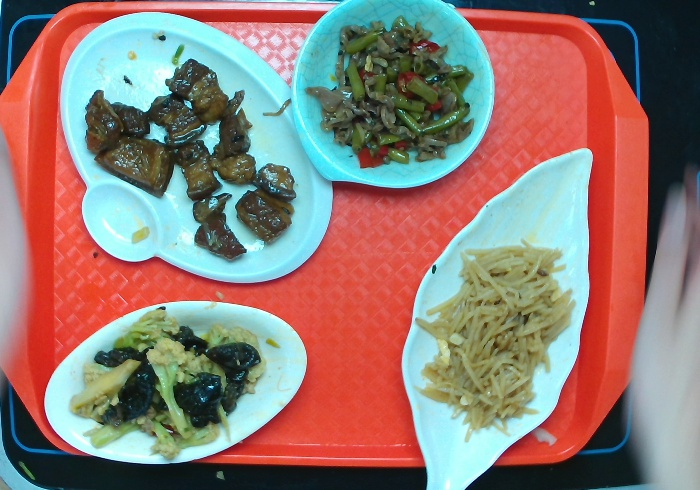RJxy-Bai_Se_Tuo_Yuan: (44, 295, 315, 472)
RJxy-Shu_Ye_Pan: (386, 146, 604, 489)
RJxy-Xiao_Jiao_Yuan_Wan: (281, 1, 496, 193)
RJxy-Zhan_Liao_Pan: (57, 9, 336, 288)
